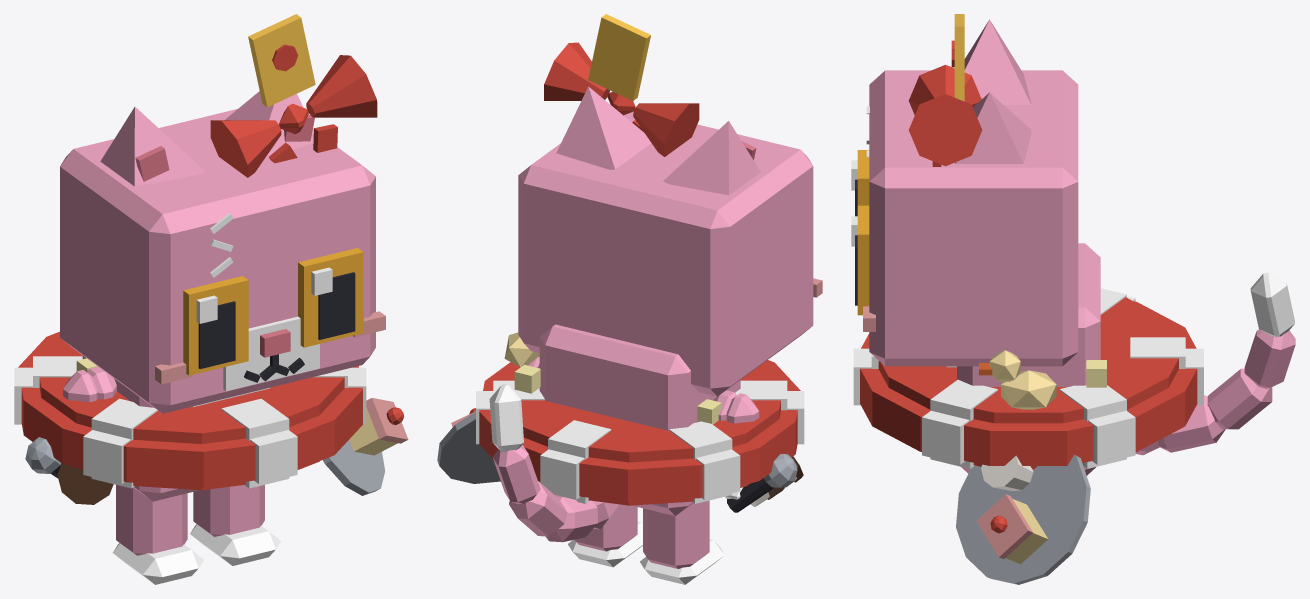
The model's file is CatCafe_Cat_BoothPlush_Work.fbx.
3 views of the same model, side by side, from view 1: azimuth 30°, elevation 25°; view 2: azimuth 150°, elevation 25°; view 3: azimuth 270°, elevation 25° (orthographic). The views are drawn at different scales.
Visible parts, largest first — view 1: CatCafe_Cat_BoothPlush_Work_Head, CatCafe_Cat_BoothPlush_Work_Prop2, CatCafe_Cat_BoothPlush_Work_Prop, CatCafe_Cat_BoothPlush_Work_LegB2, CatCafe_Cat_BoothPlush_Work_Eye2, CatCafe_Cat_BoothPlush_Work_Eye1, CatCafe_Cat_BoothPlush_Work_LegB1, CatCafe_Cat_BoothPlush_Work_EarR, CatCafe_Cat_BoothPlush_Work_Held_Waiter, CatCafe_Cat_BoothPlush_Work_Tag_Glow, CatCafe_Cat_BoothPlush_Work_EarL, CatCafe_Cat_BoothPlush_Work_Body (+3 smaller); view 2: CatCafe_Cat_BoothPlush_Work_Head, CatCafe_Cat_BoothPlush_Work_Prop2, CatCafe_Cat_BoothPlush_Work_Body, CatCafe_Cat_BoothPlush_Work_Tail, CatCafe_Cat_BoothPlush_Work_Prop, CatCafe_Cat_BoothPlush_Work_LegB2, CatCafe_Cat_BoothPlush_Work_EarL, CatCafe_Cat_BoothPlush_Work_EarR, CatCafe_Cat_BoothPlush_Work_Tag_Glow, CatCafe_Cat_BoothPlush_Work_Held_Waiter, CatCafe_Cat_BoothPlush_Work_LegB1, CatCafe_Cat_BoothPlush_Work_Held_Entertainer (+1 smaller); view 3: CatCafe_Cat_BoothPlush_Work_Head, CatCafe_Cat_BoothPlush_Work_Prop2, CatCafe_Cat_BoothPlush_Work_Held_Waiter, CatCafe_Cat_BoothPlush_Work_Tail, CatCafe_Cat_BoothPlush_Work_Prop, CatCafe_Cat_BoothPlush_Work_Body, CatCafe_Cat_BoothPlush_Work_EarR, CatCafe_Cat_BoothPlush_Work_EarL, CatCafe_Cat_BoothPlush_Work_Eye1, CatCafe_Cat_BoothPlush_Work_Eye2, CatCafe_Cat_BoothPlush_Work_Tag_Glow.
Part boxes in pixels (x1,y1,x2,y2): CatCafe_Cat_BoothPlush_Work_Head: (60, 109, 385, 413); CatCafe_Cat_BoothPlush_Work_Prop2: (14, 331, 366, 490); CatCafe_Cat_BoothPlush_Work_Prop: (210, 44, 377, 277); CatCafe_Cat_BoothPlush_Work_LegB2: (113, 485, 203, 584); CatCafe_Cat_BoothPlush_Work_Eye2: (183, 276, 248, 375); CatCafe_Cat_BoothPlush_Work_Eye1: (298, 248, 363, 347); CatCafe_Cat_BoothPlush_Work_LegB1: (190, 485, 280, 565); CatCafe_Cat_BoothPlush_Work_EarR: (100, 107, 205, 186); CatCafe_Cat_BoothPlush_Work_Held_Waiter: (322, 398, 408, 495); CatCafe_Cat_BoothPlush_Work_Tag_Glow: (248, 14, 315, 107); CatCafe_Cat_BoothPlush_Work_EarL: (224, 91, 314, 158); CatCafe_Cat_BoothPlush_Work_Body: (76, 355, 269, 501); CatCafe_Cat_BoothPlush_Work_Head: (518, 111, 822, 396); CatCafe_Cat_BoothPlush_Work_Prop2: (476, 332, 804, 505); CatCafe_Cat_BoothPlush_Work_Body: (514, 324, 740, 516); CatCafe_Cat_BoothPlush_Work_Tail: (489, 384, 619, 542); CatCafe_Cat_BoothPlush_Work_Prop: (544, 42, 755, 156); CatCafe_Cat_BoothPlush_Work_LegB2: (640, 500, 724, 584); CatCafe_Cat_BoothPlush_Work_EarL: (556, 86, 651, 169); CatCafe_Cat_BoothPlush_Work_EarR: (663, 121, 760, 195); CatCafe_Cat_BoothPlush_Work_Tag_Glow: (588, 14, 650, 100); CatCafe_Cat_BoothPlush_Work_Held_Waiter: (437, 408, 500, 483); CatCafe_Cat_BoothPlush_Work_LegB1: (568, 504, 642, 567); CatCafe_Cat_BoothPlush_Work_Held_Entertainer: (727, 454, 797, 512); CatCafe_Cat_BoothPlush_Work_Head: (863, 70, 1078, 366); CatCafe_Cat_BoothPlush_Work_Prop2: (853, 288, 1203, 469); CatCafe_Cat_BoothPlush_Work_Held_Waiter: (956, 454, 1090, 584); CatCafe_Cat_BoothPlush_Work_Tail: (1135, 272, 1295, 455); CatCafe_Cat_BoothPlush_Work_Prop: (866, 40, 982, 166); CatCafe_Cat_BoothPlush_Work_Body: (946, 243, 1106, 475); CatCafe_Cat_BoothPlush_Work_EarR: (964, 19, 1031, 104); CatCafe_Cat_BoothPlush_Work_EarL: (955, 92, 1031, 163); CatCafe_Cat_BoothPlush_Work_Eye1: (851, 205, 869, 315); CatCafe_Cat_BoothPlush_Work_Eye2: (851, 150, 869, 216); CatCafe_Cat_BoothPlush_Work_Tag_Glow: (954, 14, 964, 101).
Size of the model in its own units: 1.53 by 2.19 by 1.62.
1 material, 1 textured.
